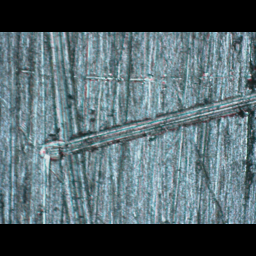d: (34, 76, 256, 166)
